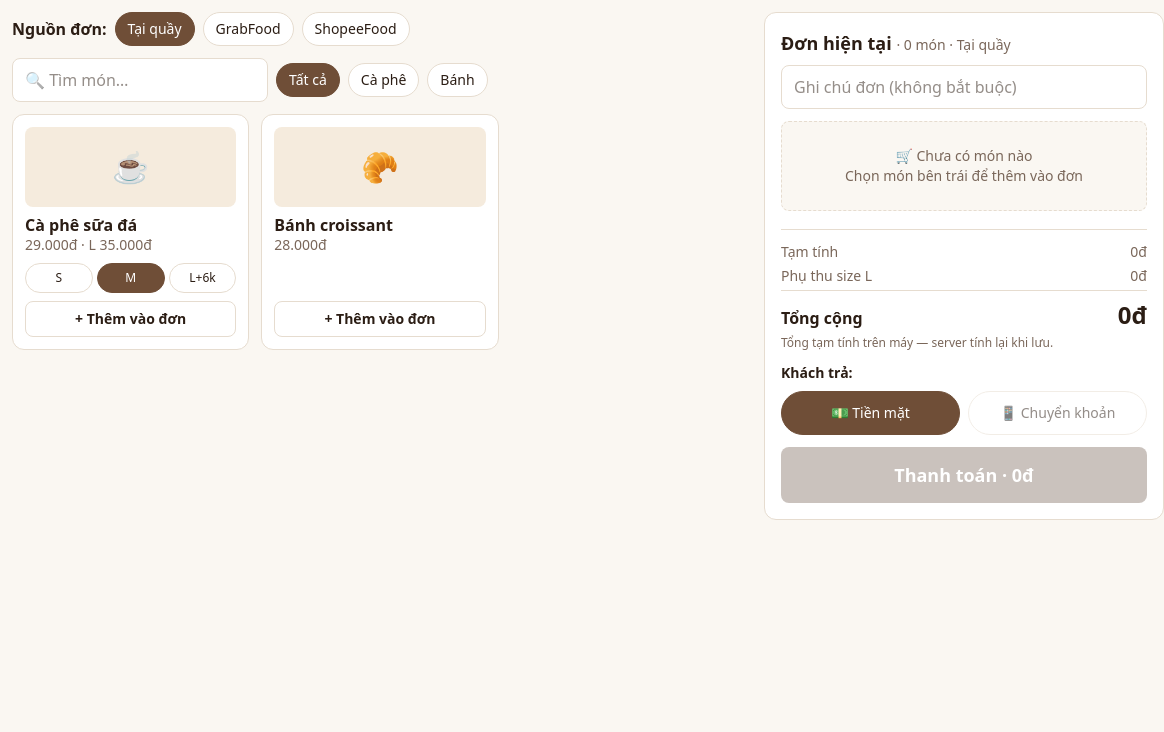
Test case: Màn bán hàng (UC02) › số lượng âm → báo lỗi tại dòng và khóa Thanh toán (BR02, L2)
Check: the heading "Cà phê sữa đá" is shown, box [25,214,137,236]
Click the button "L+6k".
click(202, 278)  # box [169,263,236,293]
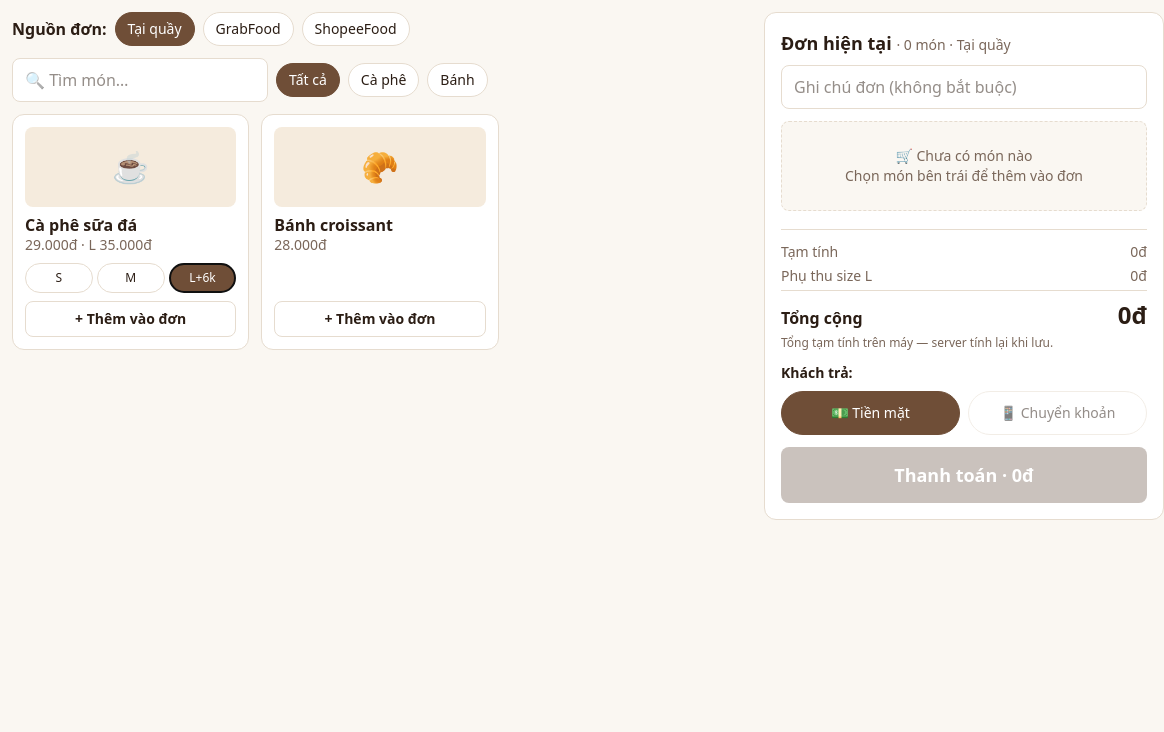
Click the button "+ Thêm vào đơn" below "29.000đ".
click(131, 319)  # box [25,301,236,337]
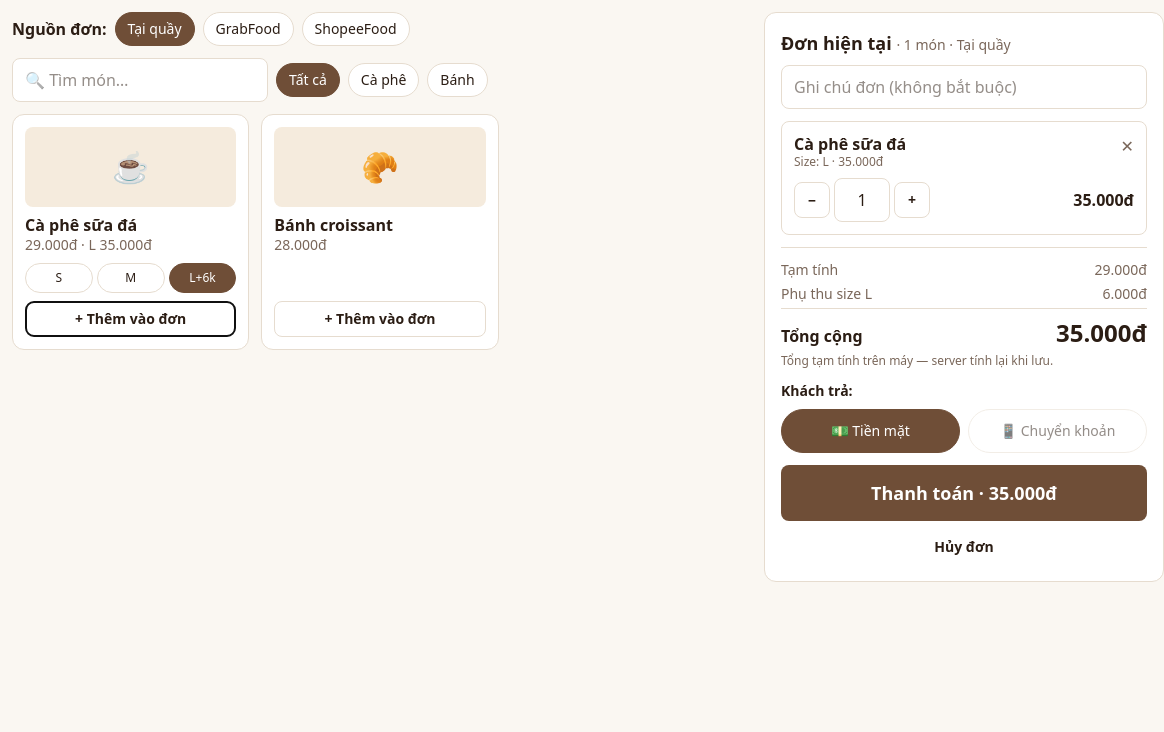
Replace the text in the field named "Số lượng Cà phê sữa đá" with "-3" at (862, 200), box [834,178,890,222]
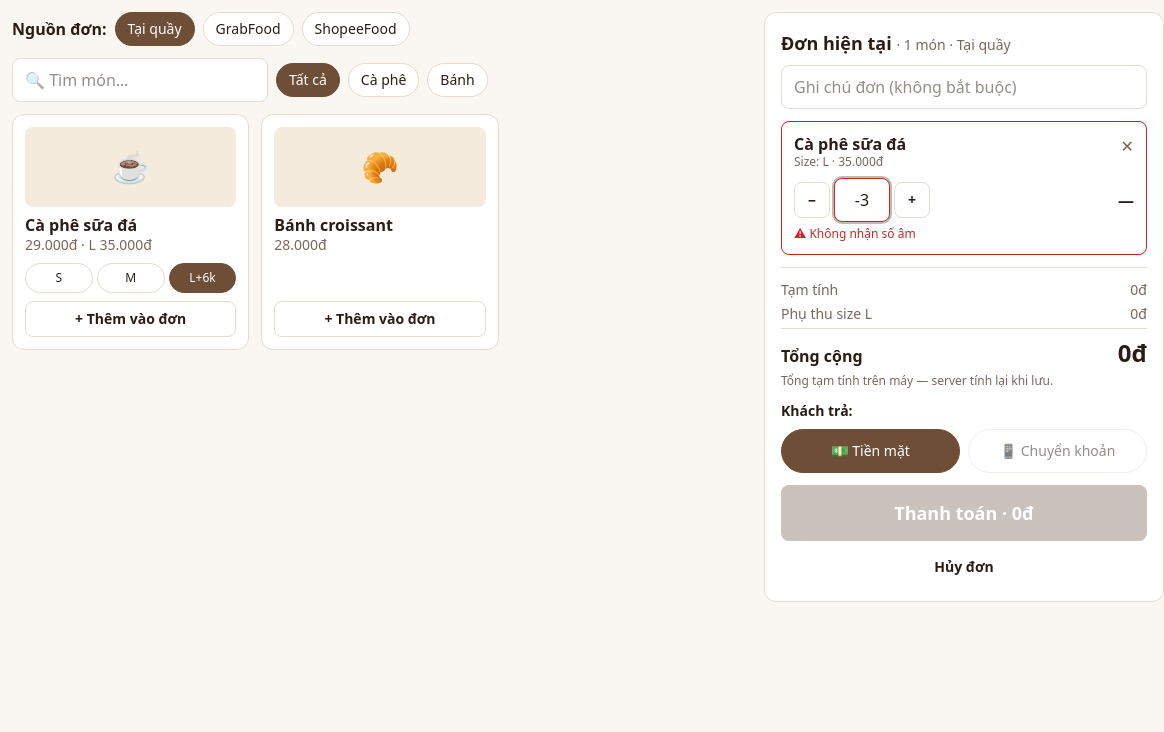
Check: the button "Thanh toán · 0đ" is disabled, box [781,485,1147,541]
Check: the text "⚠ Không nhận số âm" is shown, box [794,225,916,242]
Replace the text in the field named "Số lượng Cà phê sữa đá" with "51" at (862, 200), box [834,178,890,222]
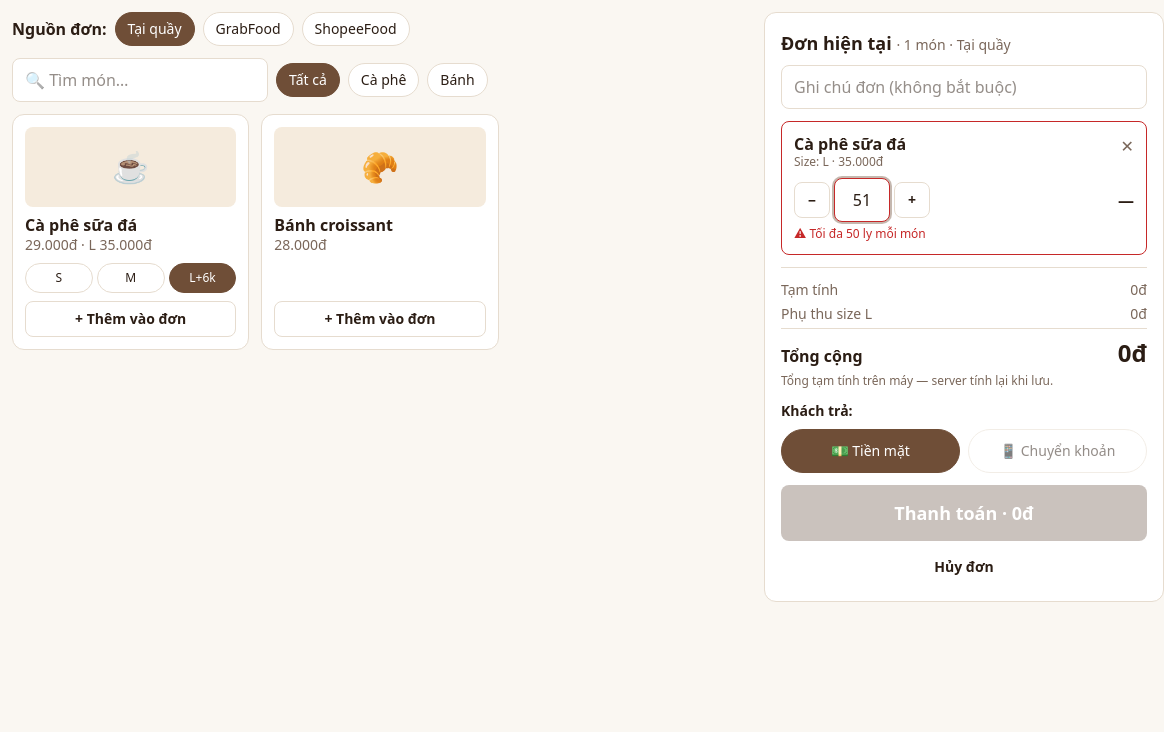
Check: the button "Thanh toán · 0đ" is disabled, box [781,485,1147,541]
Check: the text "⚠ Tối đa 50 ly mỗi món" is shown, box [794,225,926,242]
